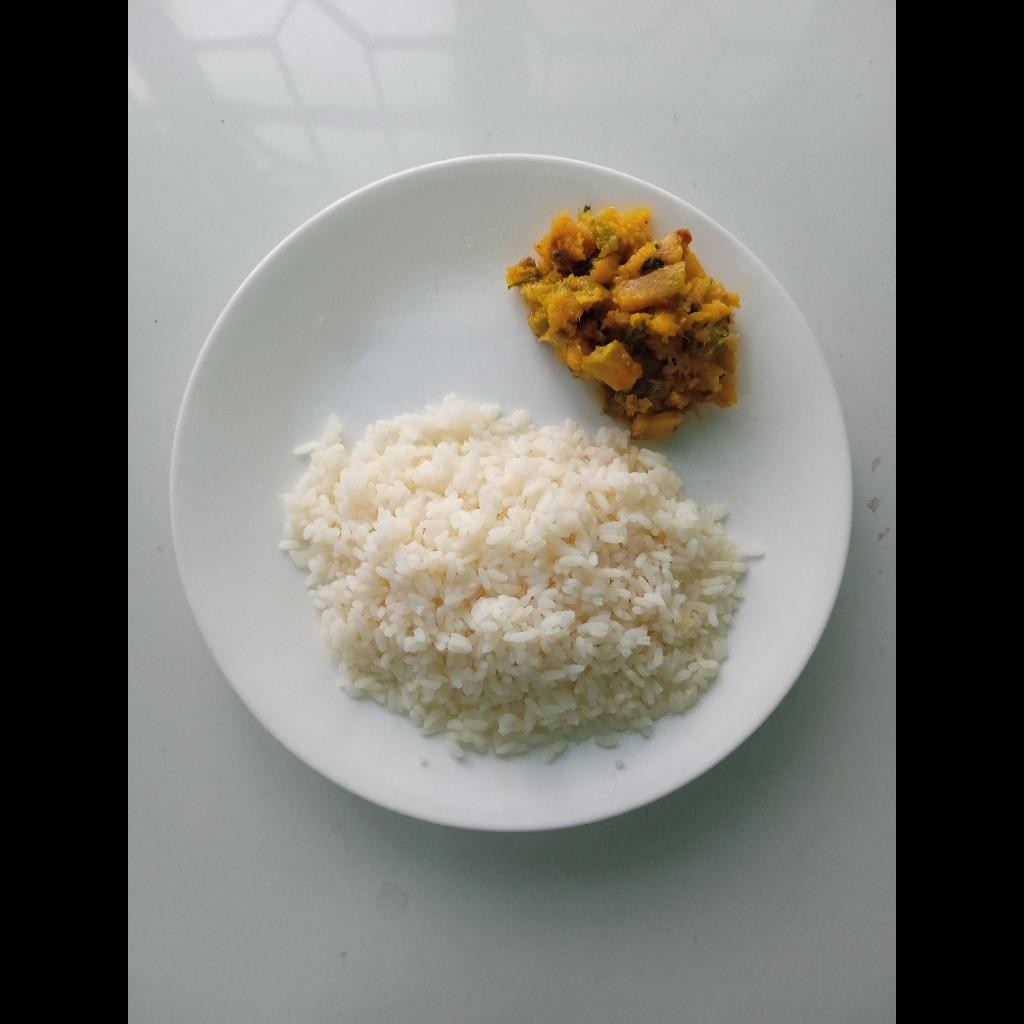kumra-vaji: (520, 213, 737, 423)
rice: (290, 409, 749, 751)
